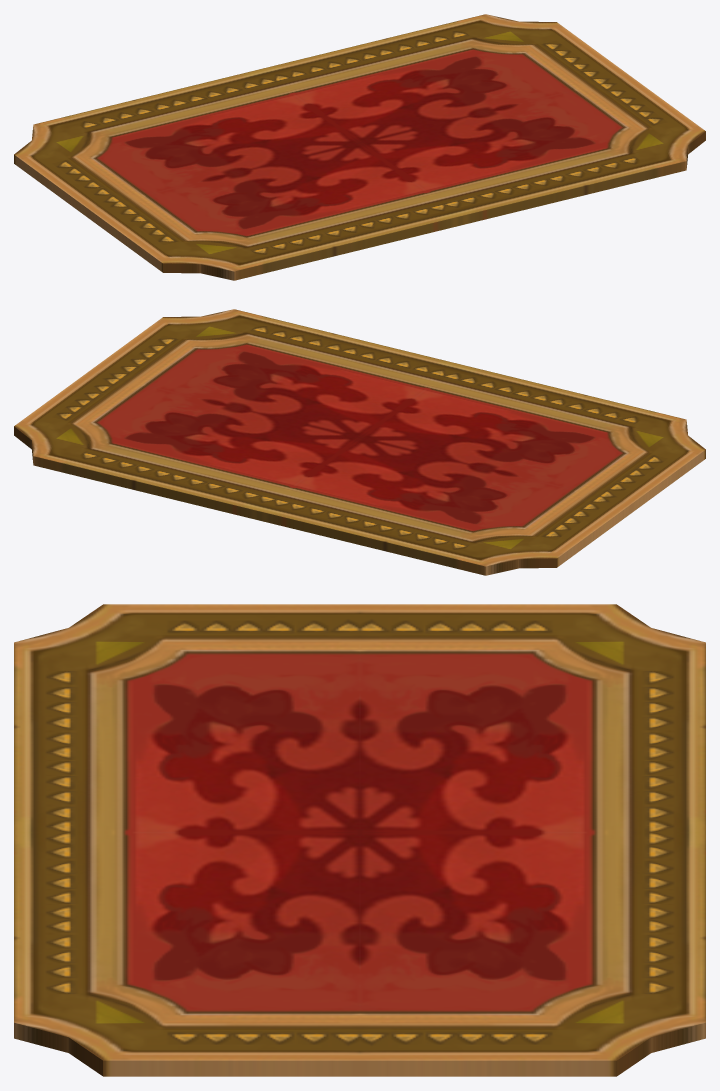
File: DiTang01.FBX
The picture shows the model from 3 angles, top to bottom: view 1: azimuth 30°, elevation 25°; view 2: azimuth 150°, elevation 25°; view 3: azimuth 270°, elevation 25°; orthographic projection. The views are drawn at different scales.
Visible parts, largest first — view 1: 对象007; view 2: 对象007; view 3: 对象007.
Part boxes in pixels (<box>): 对象007: <box>14,14,705,280</box>; 对象007: <box>14,309,705,575</box>; 对象007: <box>14,604,705,1076</box>.
Size of the model in its own units: 336 by 5.44 by 215.
